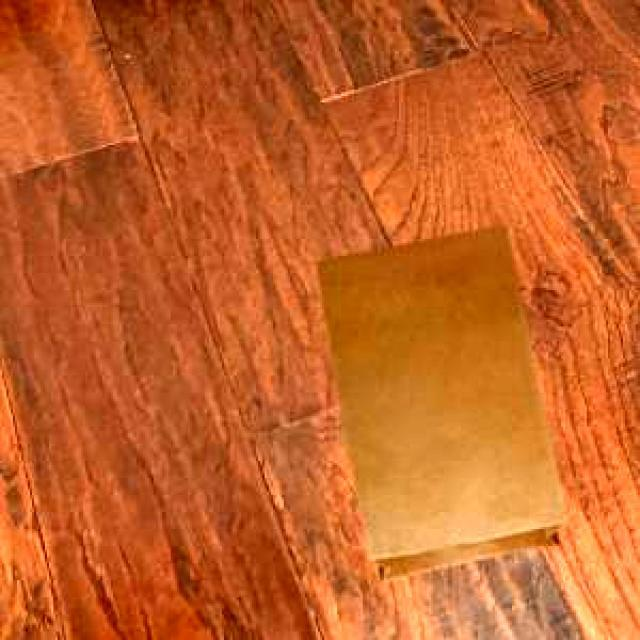Paper_Bag: (314, 222, 562, 580)
